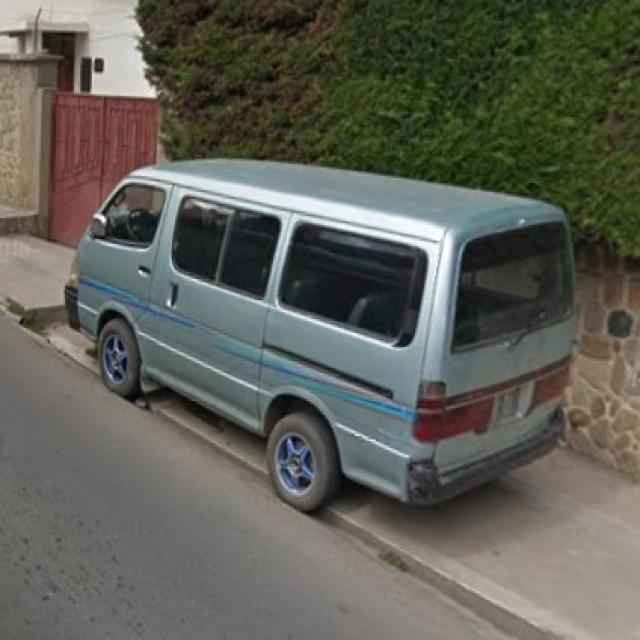cars: (60, 150, 588, 525)
